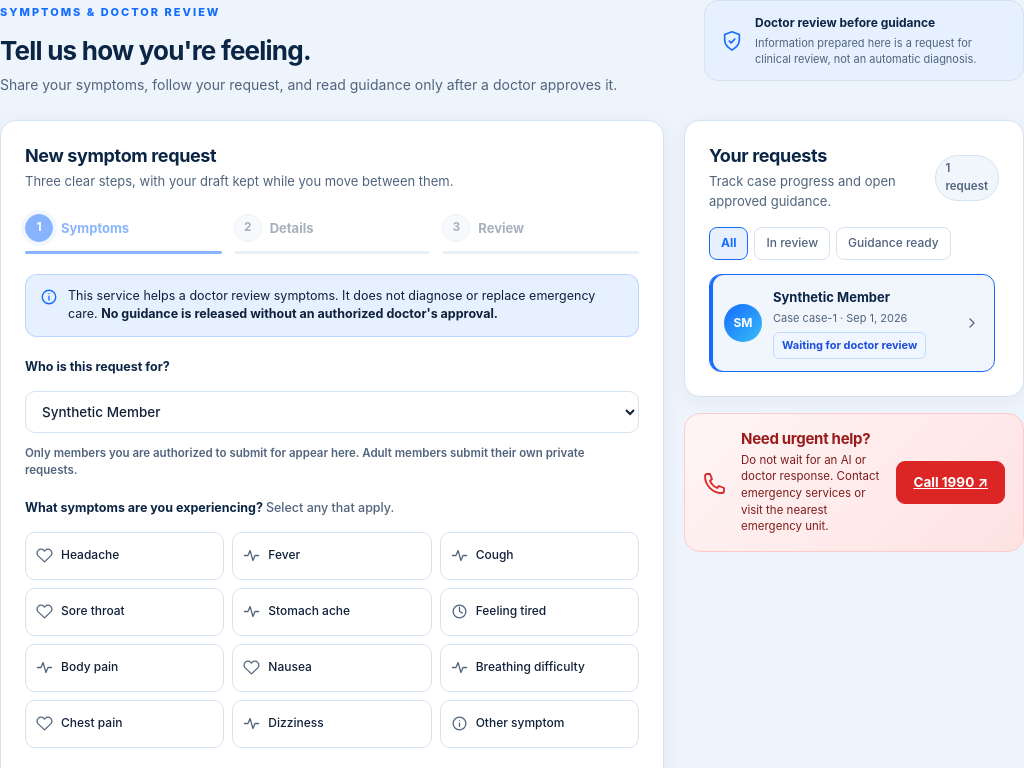
TriagePage › shows a referral instead of AI output when the case failed safe
This screenshot has width=1024, height=768.
Click the button that starts with "Synthetic Member": (852, 323) [709,274,995,372]
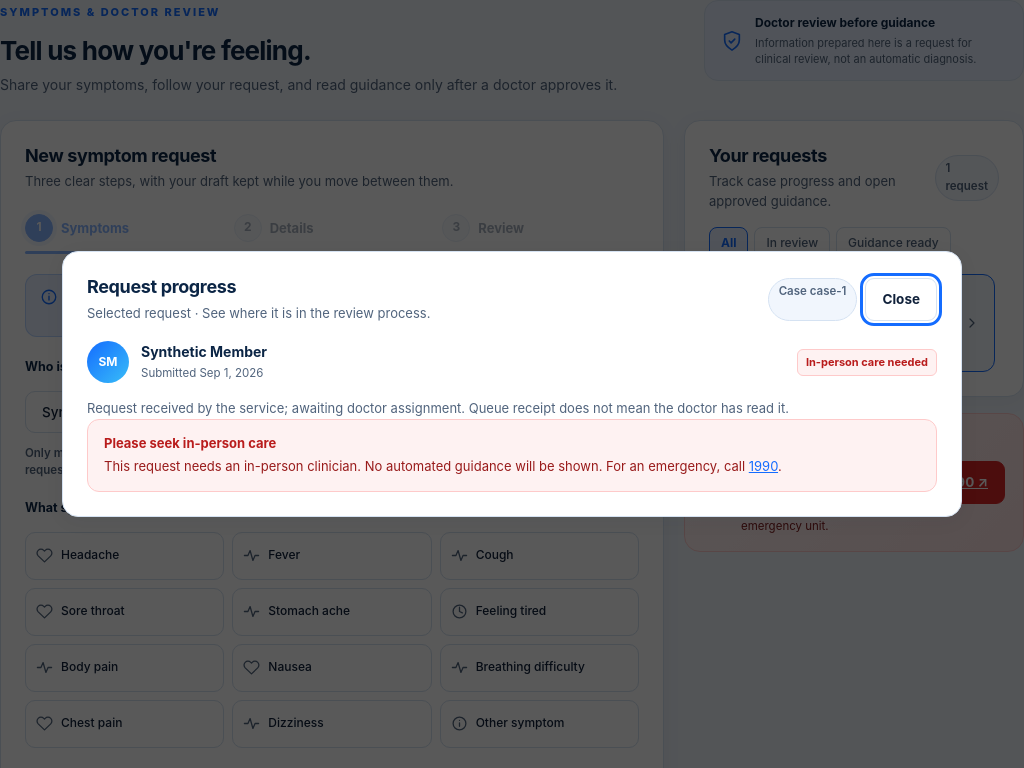
Expected: the message shows "Please seek in-person care", [104,435,276,451]
